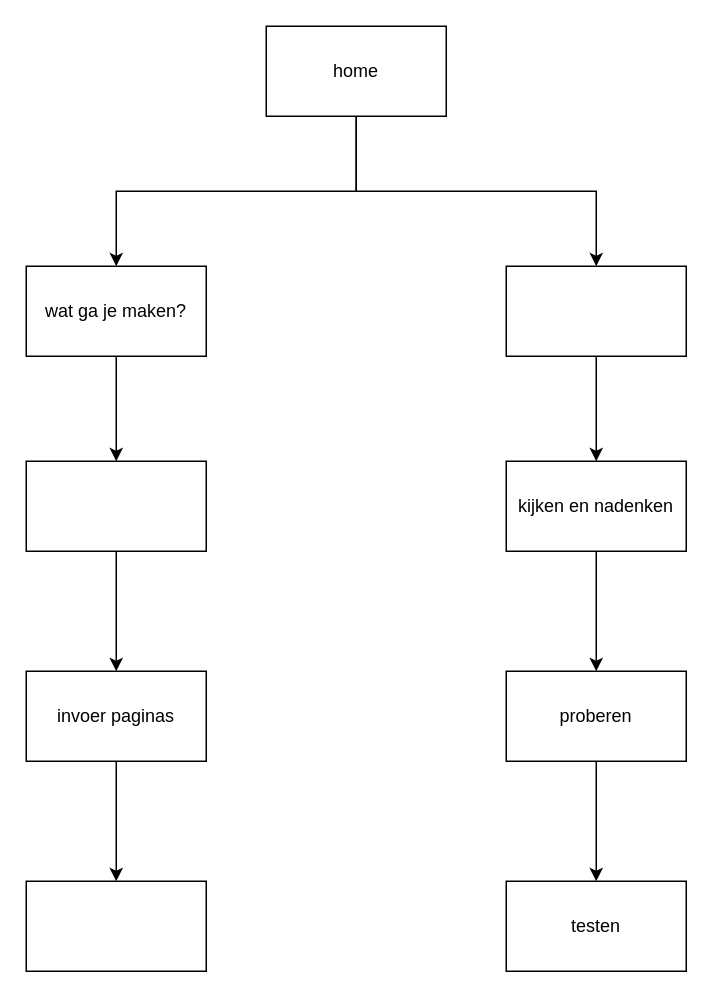
This 713x998 diagram has some shape labels left out. Here are the shapes that lost their labels. From the top down, the box of each, then its label:
(505, 265, 686, 356): hoe ga je dat doen?
(25, 460, 206, 551): login form
(25, 880, 206, 971): acties
